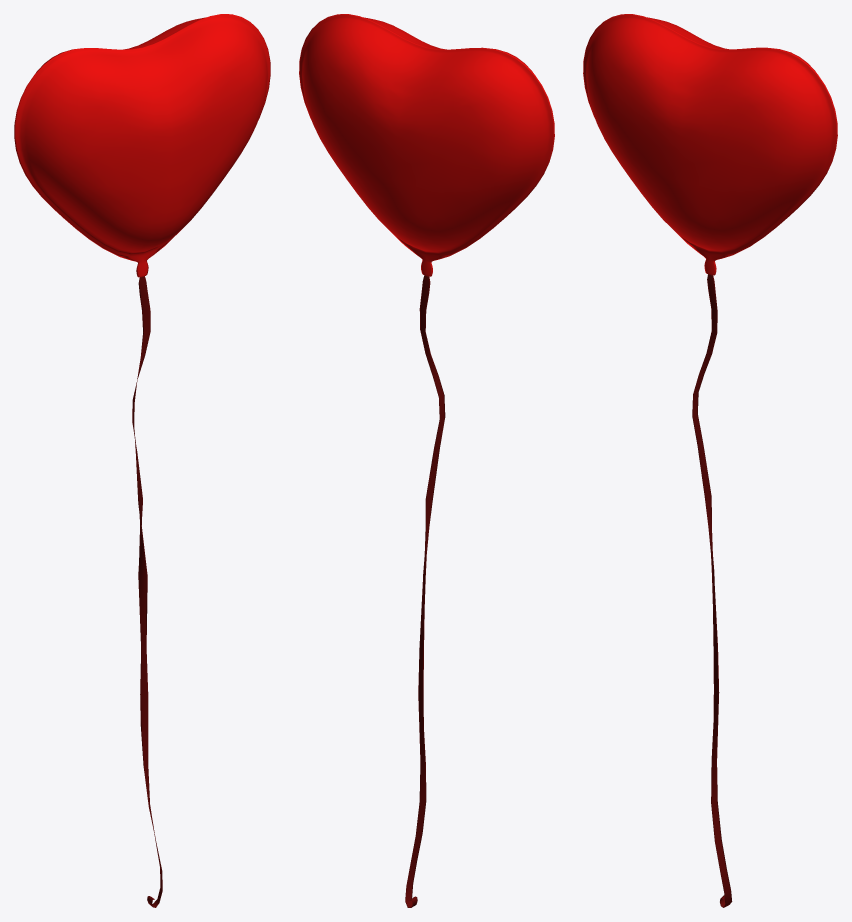
File: SM_SM_HeartBalloon_01.fbx
3 views of the same model, side by side, from view 1: azimuth 30°, elevation 25°; view 2: azimuth 150°, elevation 25°; view 3: azimuth 330°, elevation 25° (orthographic).
Parts seen in each view (by area): view 1: SM_HeartBalloon_01; view 2: SM_HeartBalloon_01; view 3: SM_HeartBalloon_01.
Part boxes in pixels (x1,y1,x2,y2): SM_HeartBalloon_01: (14,14,270,907); SM_HeartBalloon_01: (299,14,554,907); SM_HeartBalloon_01: (583,14,837,907).
Bounding box in the file's own units: 76.42 × 250 × 30.31.
